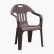plastic: (7, 1, 46, 50)
